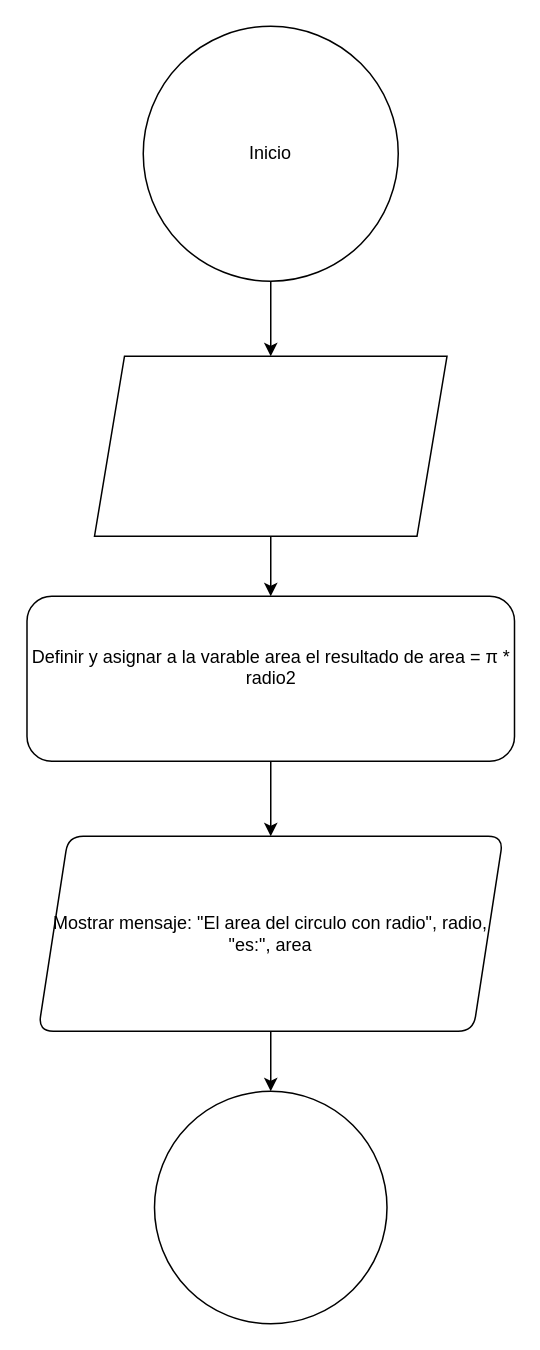
This 540x1350 diagram has some shape labels left out. Each missing label, with the centre of its shape:
Fin: (270,1207)
Mostrar mensaje:"Por favor, ingrese el radio del circulo: ": (270,445)
